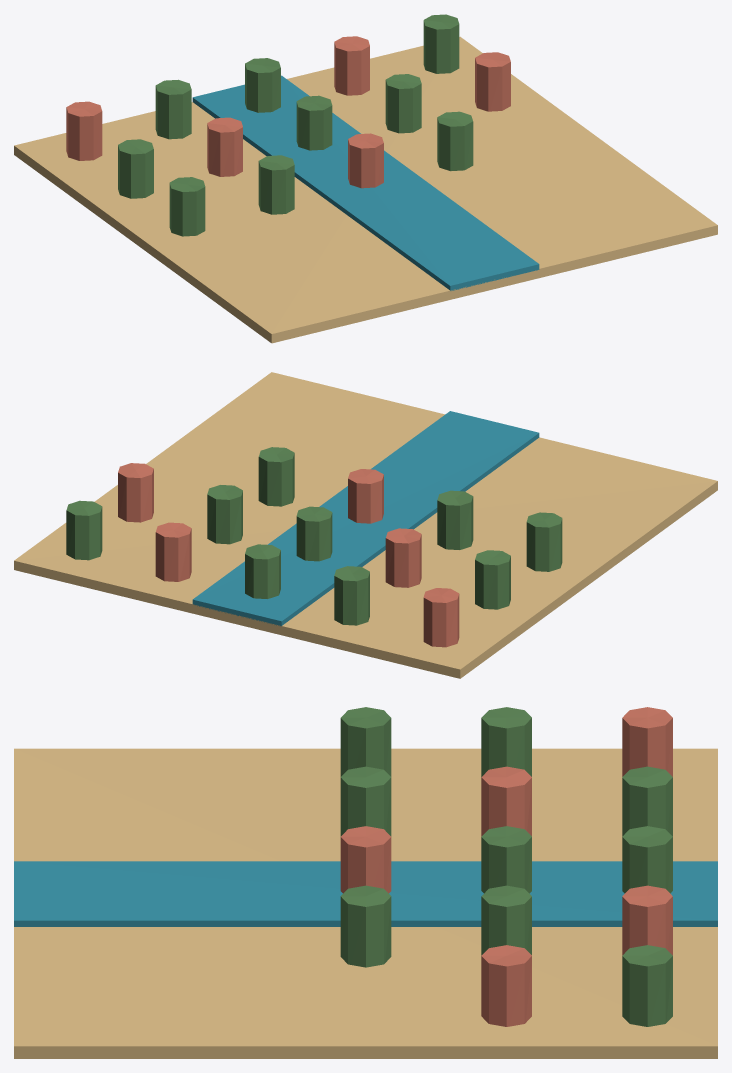
The model's file is Riparian-buffer.glb.
3 renders of one model, top to bottom at view 1: azimuth 30°, elevation 25°; view 2: azimuth 150°, elevation 25°; view 3: azimuth 270°, elevation 25°, orthographic. The views are drawn at different scales.
Parts seen in each view (by area): view 1: riparian-buffer-static-riparian-buffer-earth, riparian-buffer-static-riparian-buffer-water, riparian-buffer-static-riparian-buffer-leaf, riparian-buffer-static-riparian-buffer-flower; view 2: riparian-buffer-static-riparian-buffer-earth, riparian-buffer-static-riparian-buffer-water, riparian-buffer-static-riparian-buffer-leaf, riparian-buffer-static-riparian-buffer-flower; view 3: riparian-buffer-static-riparian-buffer-earth, riparian-buffer-static-riparian-buffer-water, riparian-buffer-static-riparian-buffer-leaf, riparian-buffer-static-riparian-buffer-flower.
Part boxes in pixels (box(x1,y1,x2,y2)): riparian-buffer-static-riparian-buffer-earth: box(14, 36, 717, 343); riparian-buffer-static-riparian-buffer-water: box(192, 75, 539, 290); riparian-buffer-static-riparian-buffer-leaf: box(118, 14, 473, 236); riparian-buffer-static-riparian-buffer-flower: box(66, 36, 510, 188); riparian-buffer-static-riparian-buffer-earth: box(14, 372, 717, 678); riparian-buffer-static-riparian-buffer-water: box(192, 411, 539, 626); riparian-buffer-static-riparian-buffer-leaf: box(66, 447, 562, 625); riparian-buffer-static-riparian-buffer-flower: box(118, 463, 459, 647); riparian-buffer-static-riparian-buffer-earth: box(14, 748, 717, 1058); riparian-buffer-static-riparian-buffer-water: box(14, 861, 717, 926); riparian-buffer-static-riparian-buffer-leaf: box(340, 707, 672, 1026); riparian-buffer-static-riparian-buffer-flower: box(340, 707, 672, 1026).
Bounding box in the file's own units: 5 × 0.575 × 5.
